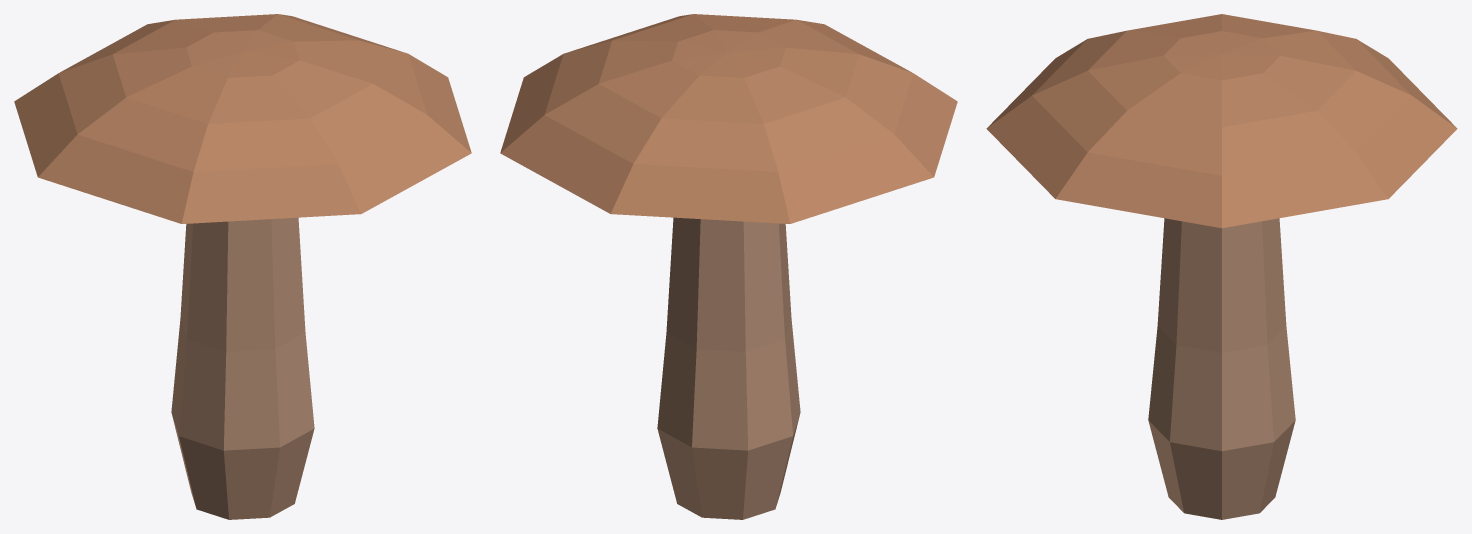
Rendered from Mushroom_10.fbx.
The picture shows the model from 3 angles, left to right: view 1: azimuth 30°, elevation 25°; view 2: azimuth 150°, elevation 25°; view 3: azimuth 270°, elevation 25°; orthographic projection.
Parts seen in each view (by area): view 1: Mushroom_10; view 2: Mushroom_10; view 3: Mushroom_10.
Boxes of the visible parts, <box> form: Mushroom_10: <box>14,14,471,519</box>; Mushroom_10: <box>500,14,957,519</box>; Mushroom_10: <box>986,14,1457,519</box>.
Bounding box in the file's own units: 120 × 125 × 120.
